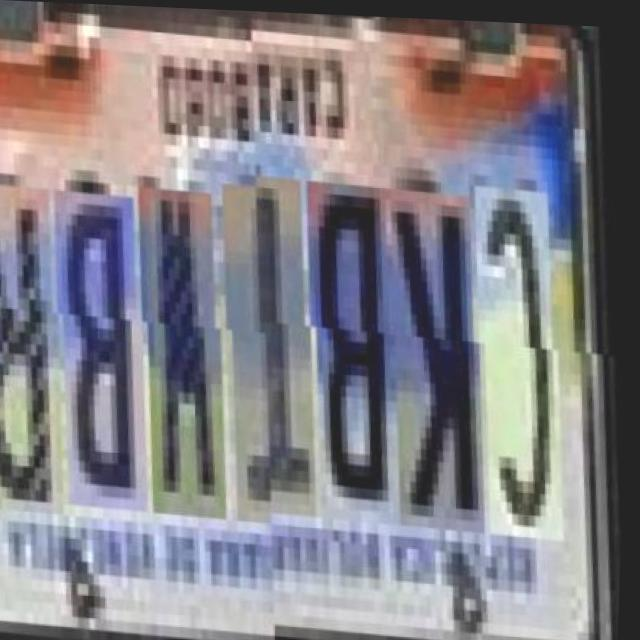b: (305, 180, 412, 522), (53, 185, 157, 504)
c: (473, 182, 575, 536)
k: (383, 187, 496, 529)
r: (0, 178, 75, 509)
t: (220, 175, 326, 517)
w: (137, 180, 236, 510)
